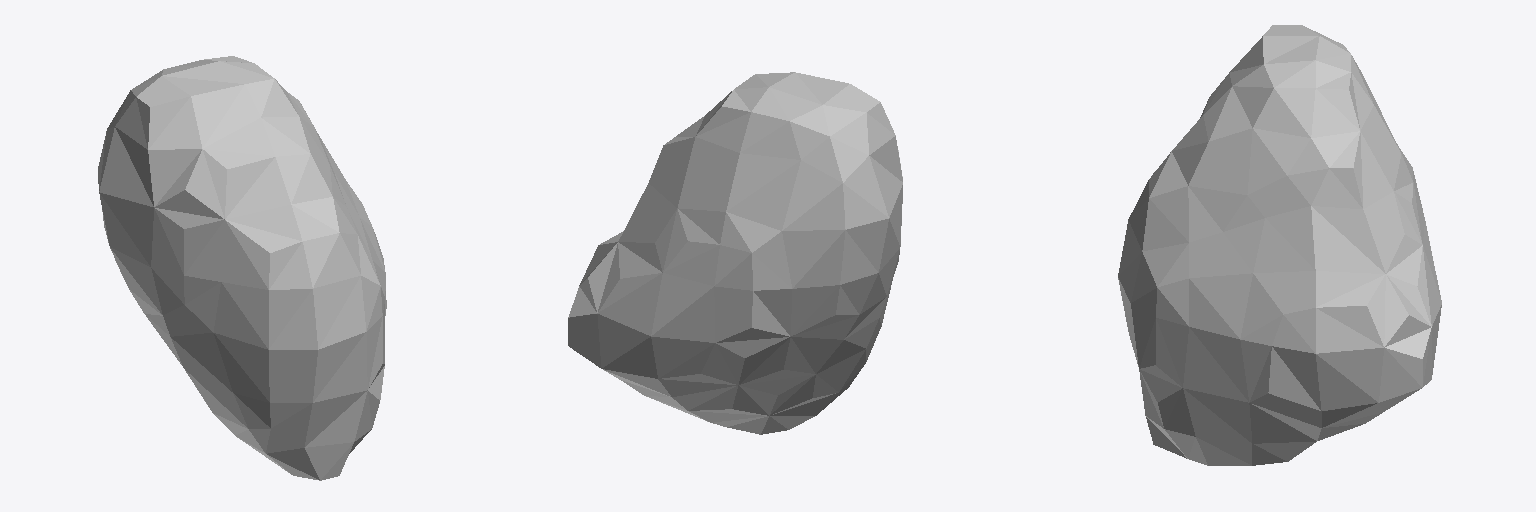
File: modeloPiedras2.obj
3 renders of one model, left to right at view 1: azimuth 30°, elevation 25°; view 2: azimuth 150°, elevation 25°; view 3: azimuth 270°, elevation 25°, orthographic.
Bounding box in the file's own units: 2.25 × 2.89 × 2.28.